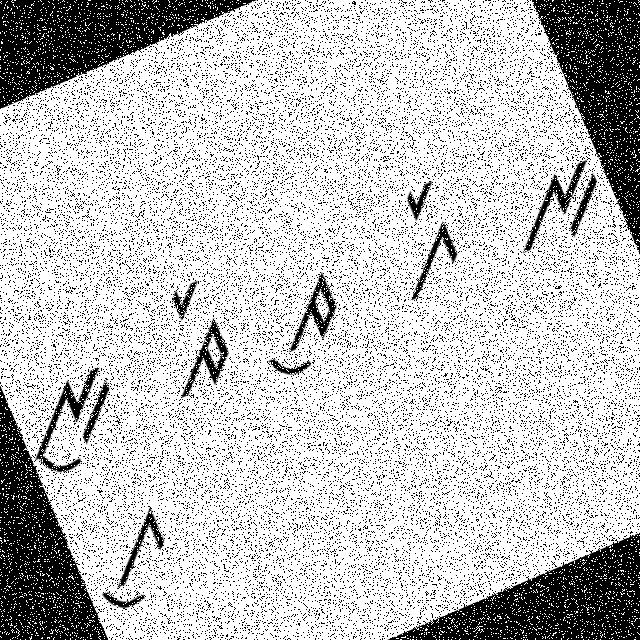ga: (487, 145, 622, 274)
gar: (357, 170, 480, 316)
gaw: (66, 489, 192, 626)
ngaw: (1, 339, 146, 489)
tar: (134, 269, 253, 409)
taw: (240, 263, 364, 394)
